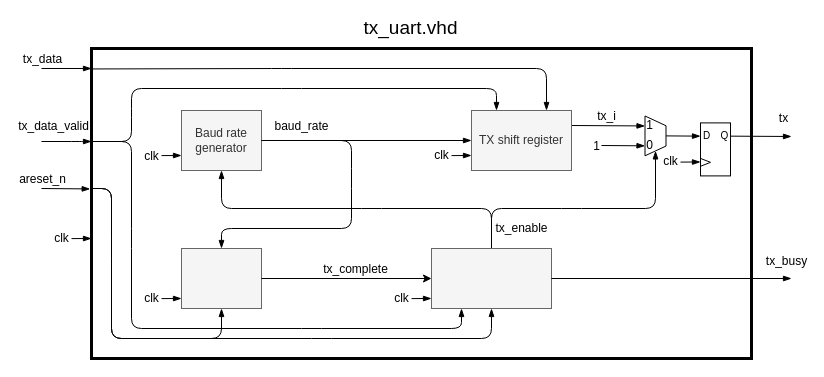
Image size: 824x377. Some labels were removed from this diagram. The shapes that lost their labels are listed below. From the top down, each one's centre as x and y in pixels, then its label:
At [221,278]: "Bit counter".
At [491,278]: "TX FSM".
